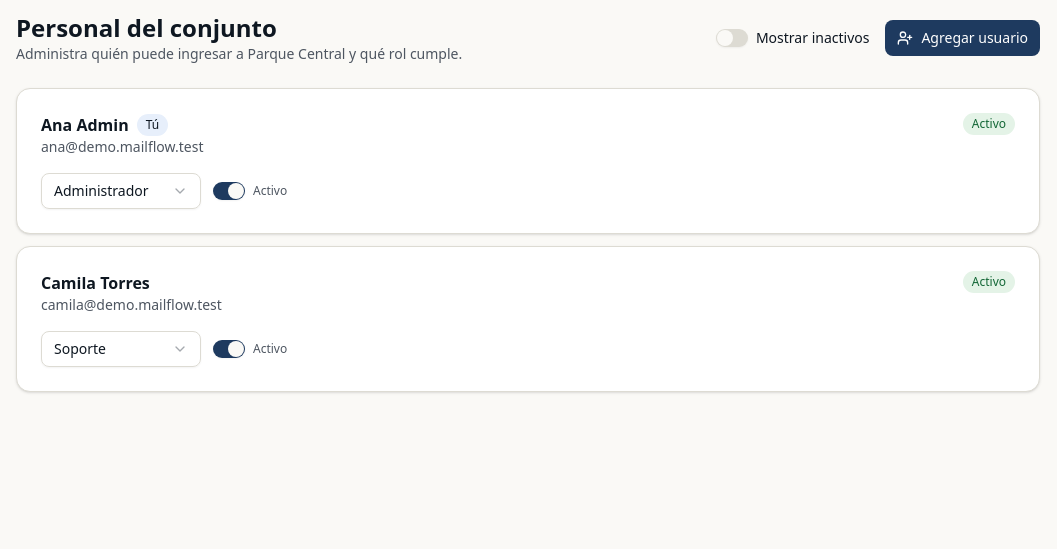
Test: UsuariosPage · Edición de rol y estado › 409 por versión muestra AvisoConflicto con botón Recargar que vuelve a consultar
The width and height of the screenshot is (1057, 549).
Expected: the text "Camila Torres" is shown, [41,271,150,295]
Click the dropdown named "rol de camila torres" at {"x": 121, "y": 349}, box [41,331,201,367]
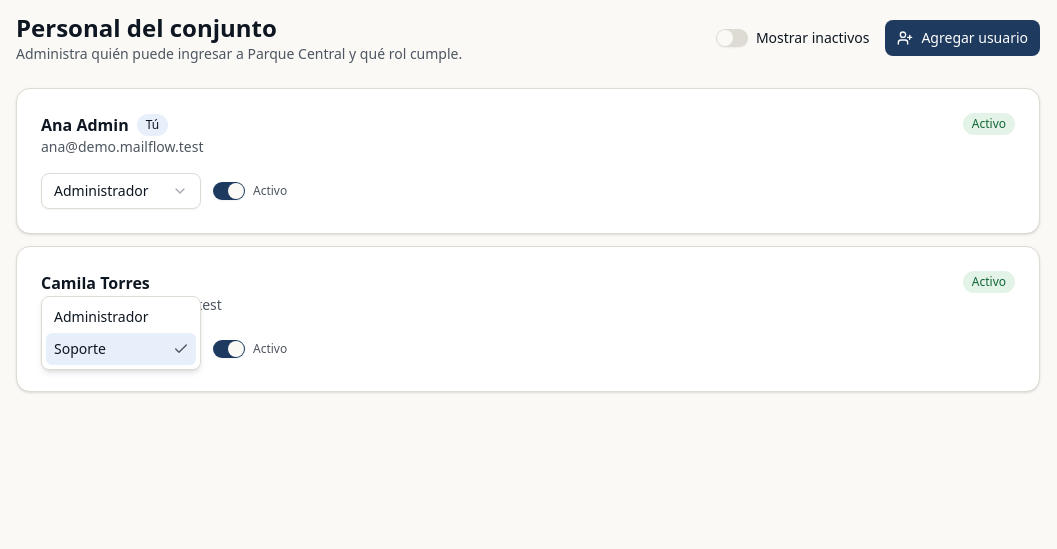
Click the option "Administrador" at {"x": 101, "y": 316}, box [54,307,148,326]
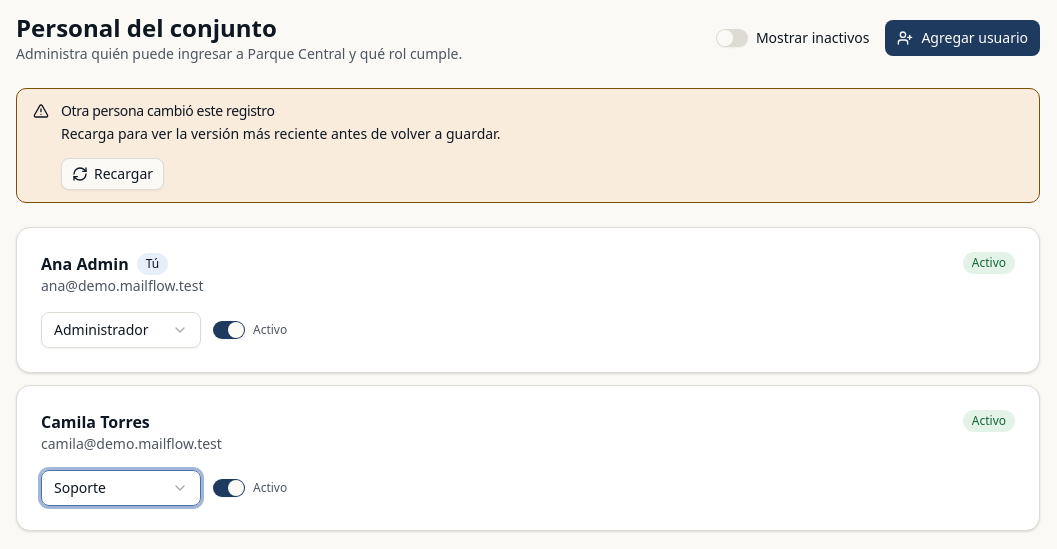
Now the text "Otra persona cambió este registro" is shown, box [61,101,275,120]
Click the button "Recargar" at {"x": 113, "y": 174}, box [61,158,164,190]
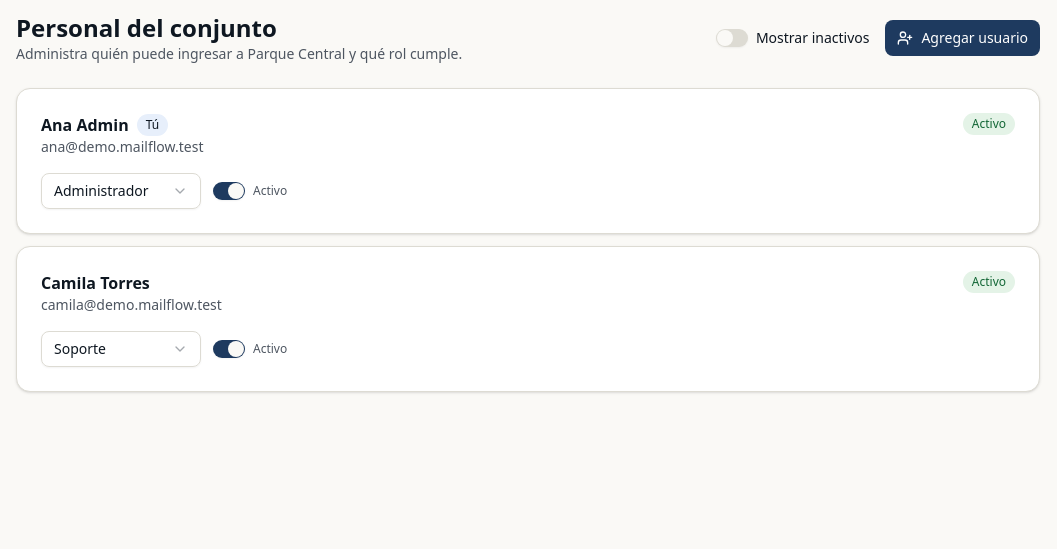
Now the text "Otra persona cambió este registro" is gone
